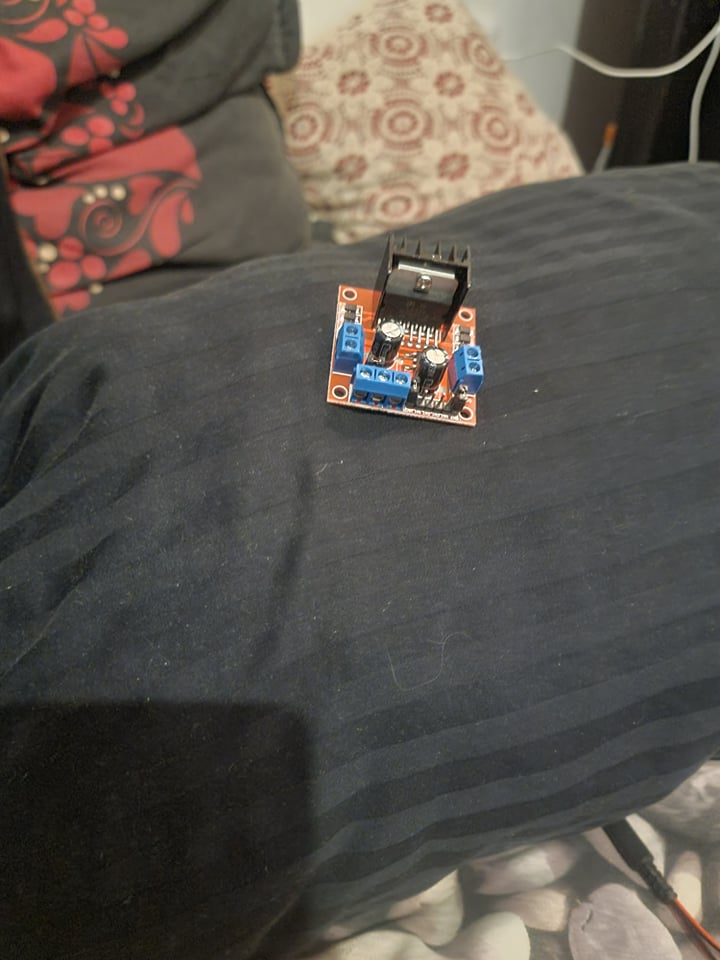MOTOR: (321, 234, 484, 429)
